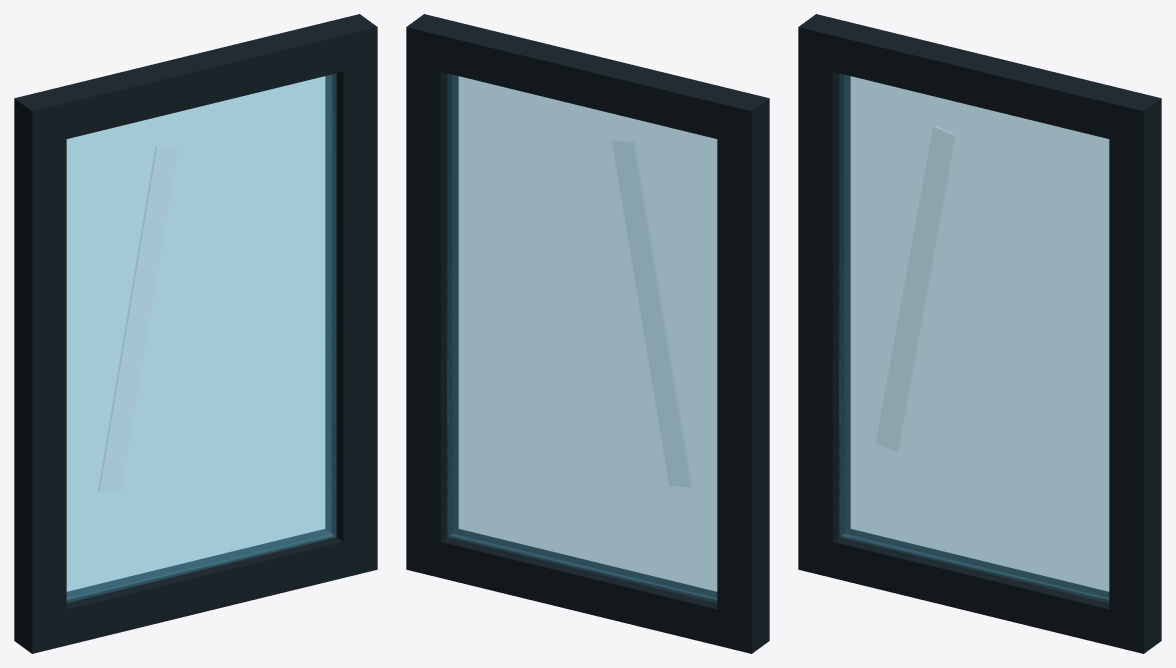
The model's file is window_1pan_1level.glb.
The picture shows the model from 3 angles, left to right: view 1: azimuth 30°, elevation 25°; view 2: azimuth 150°, elevation 25°; view 3: azimuth 330°, elevation 25°; orthographic projection.
Visible parts, largest first — view 1: Glass_Pane_1, Frame_Left, Frame_Right, Frame_Top, Frame_Bottom, Reflection_Stripe_1; view 2: Glass_Pane_1, Frame_Left, Frame_Right, Frame_Top, Frame_Bottom, Reflection_Stripe_1; view 3: Glass_Pane_1, Frame_Right, Frame_Left, Frame_Top, Frame_Bottom, Reflection_Stripe_1.
Part boxes in pixels (bbox=[...]): Glass_Pane_1: bbox=[66, 74, 336, 602]; Frame_Left: bbox=[14, 135, 66, 617]; Frame_Right: bbox=[325, 63, 377, 541]; Frame_Top: bbox=[14, 14, 377, 147]; Frame_Bottom: bbox=[14, 529, 377, 653]; Reflection_Stripe_1: bbox=[98, 145, 178, 491]; Glass_Pane_1: bbox=[447, 74, 717, 602]; Frame_Left: bbox=[717, 135, 769, 617]; Frame_Right: bbox=[406, 63, 458, 541]; Frame_Top: bbox=[406, 14, 769, 147]; Frame_Bottom: bbox=[406, 529, 769, 653]; Reflection_Stripe_1: bbox=[612, 142, 689, 486]; Glass_Pane_1: bbox=[839, 74, 1109, 602]; Frame_Right: bbox=[1109, 135, 1161, 617]; Frame_Left: bbox=[798, 63, 850, 541]; Frame_Top: bbox=[798, 14, 1161, 147]; Frame_Bottom: bbox=[798, 529, 1161, 653]; Reflection_Stripe_1: bbox=[876, 126, 955, 451].
Bounding box in the file's own units: 1 × 1.5 × 0.09.
